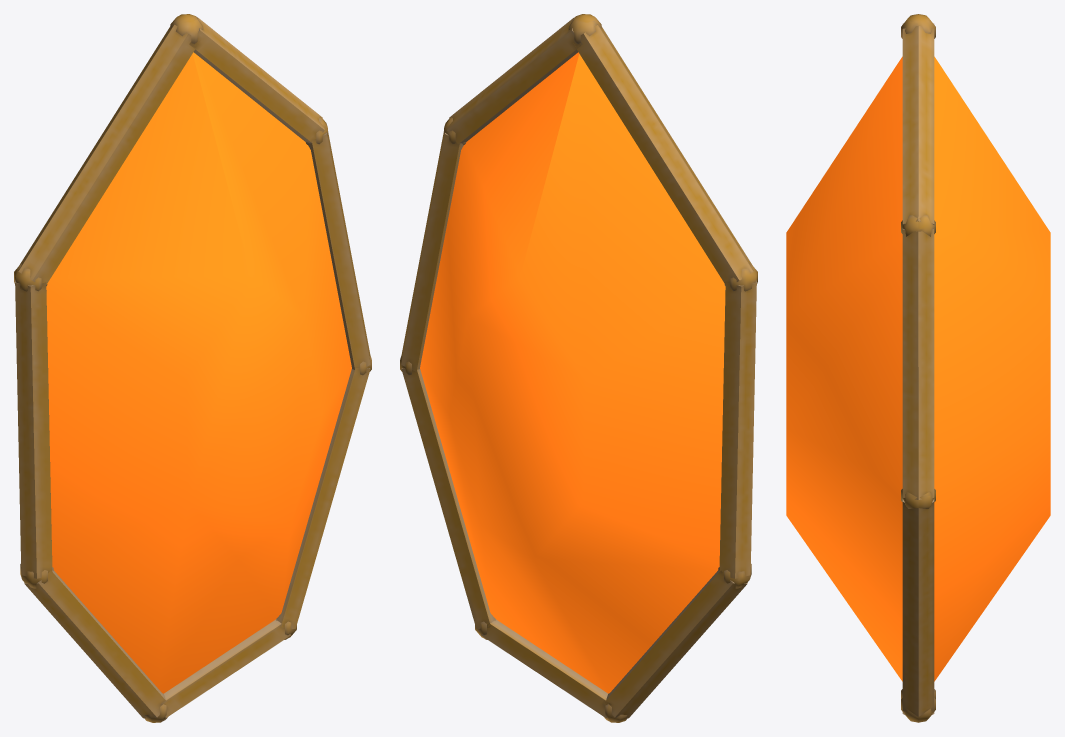
Rendered from rr_coin.glb.
The picture shows the model from 3 angles, left to right: view 1: azimuth 30°, elevation 25°; view 2: azimuth 150°, elevation 25°; view 3: azimuth 270°, elevation 25°; orthographic projection.
Visible parts, largest first — view 1: rr_coin; view 2: rr_coin; view 3: rr_coin.
Boxes of the visible parts, left/top/right/bottom form: rr_coin: left=14, top=14, right=371, bottom=722; rr_coin: left=400, top=14, right=757, bottom=722; rr_coin: left=786, top=14, right=1050, bottom=722.
Bounding box in the file's own units: 0.5696 × 1.07 × 0.36.
Materials: 2 (2 with a texture image).
